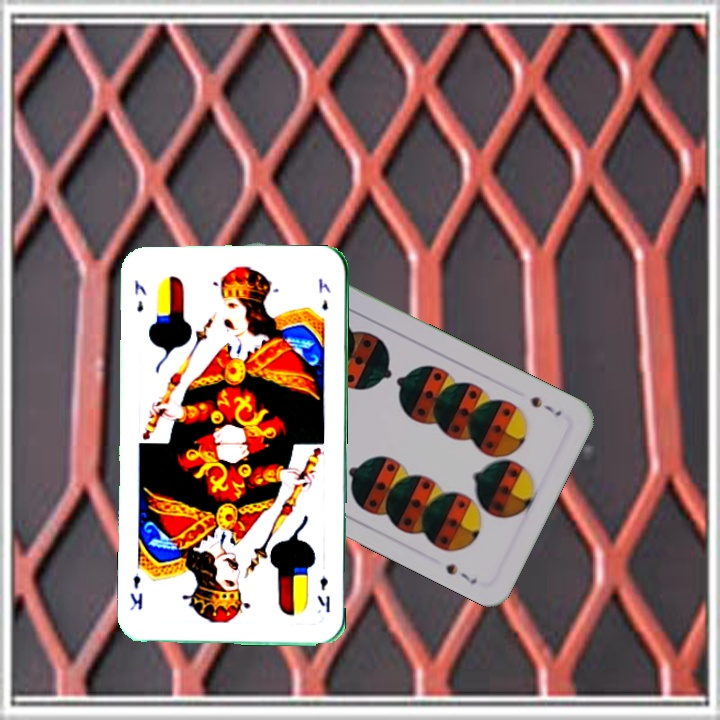EK: (313, 572, 333, 615), (131, 276, 149, 315)
S7: (527, 392, 564, 419)
